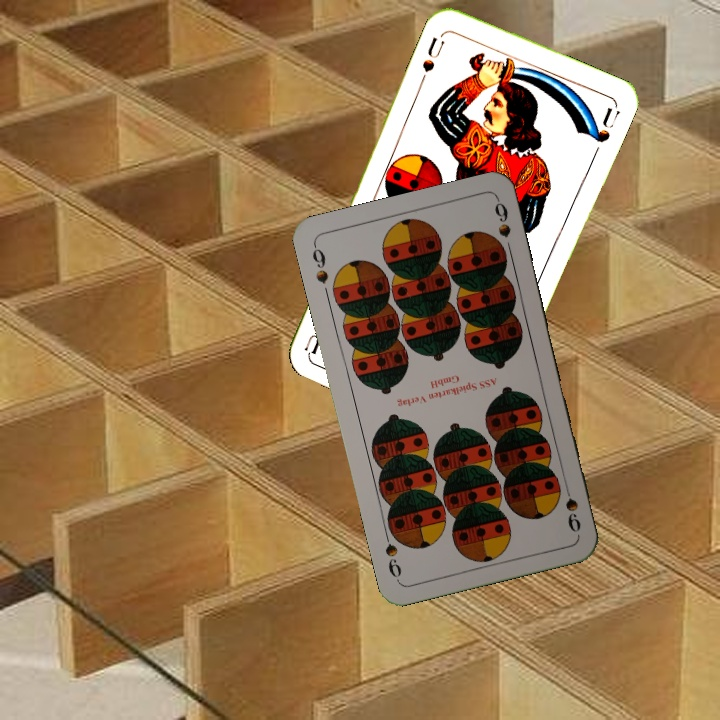S9: (561, 477, 584, 535), (308, 240, 331, 286)
SU: (418, 33, 448, 75)
